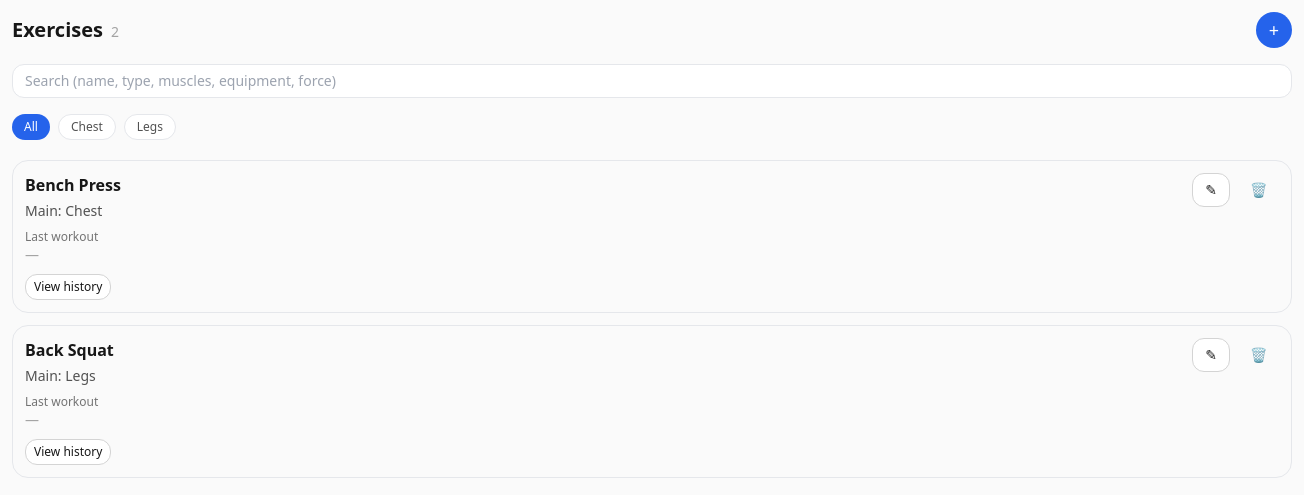
ExerciseManager › filters by search query
Type "bench" into the field with placeholder "Search (name, type, muscles, equipment, force)" at (652,81), box [12,64,1292,98]
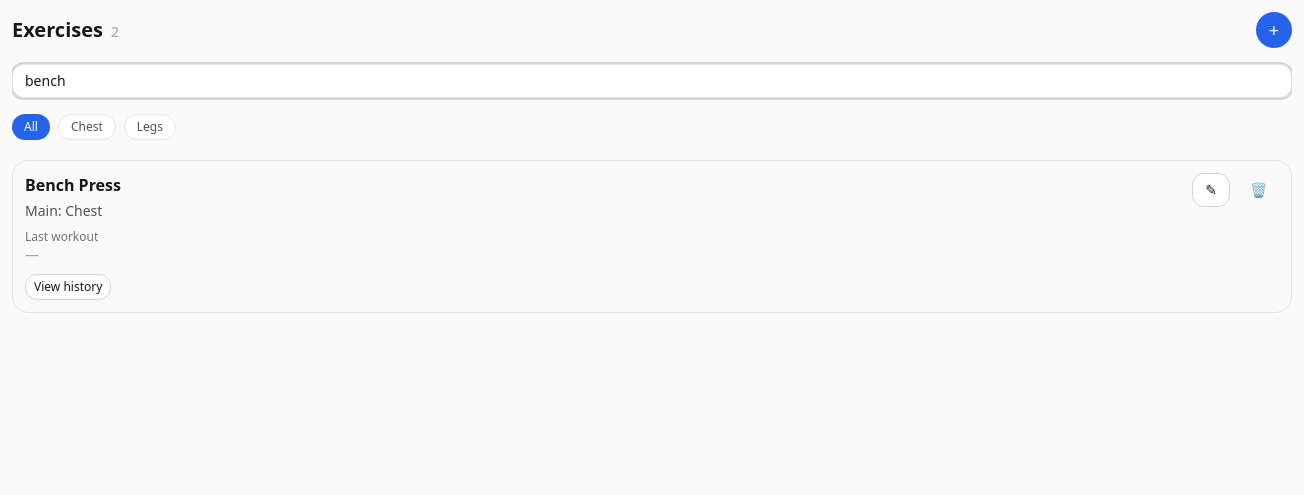
Check: the heading "Bench Press" is shown, box [25,173,121,197]
Check: the heading "Back Squat" is gone
